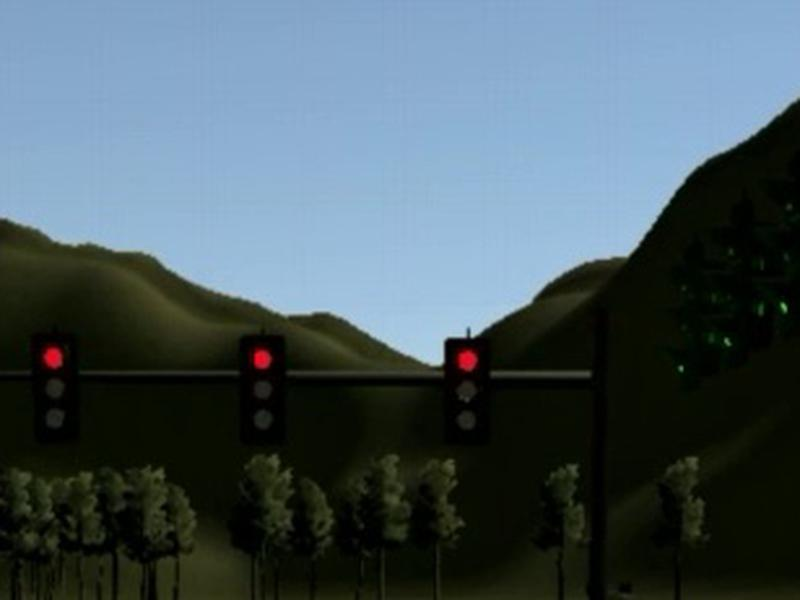Red: (237, 332, 290, 448), (30, 326, 82, 442), (443, 336, 489, 446)
